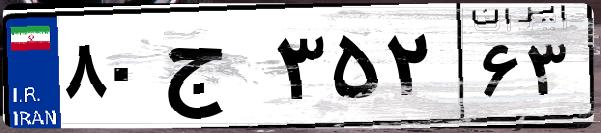0: (110, 28, 158, 98)
2: (385, 28, 445, 110)
3: (270, 28, 330, 110), (525, 38, 570, 115)
5: (330, 28, 385, 110)
6: (475, 38, 525, 113)
8: (57, 26, 110, 100)
ج: (158, 20, 270, 120)
